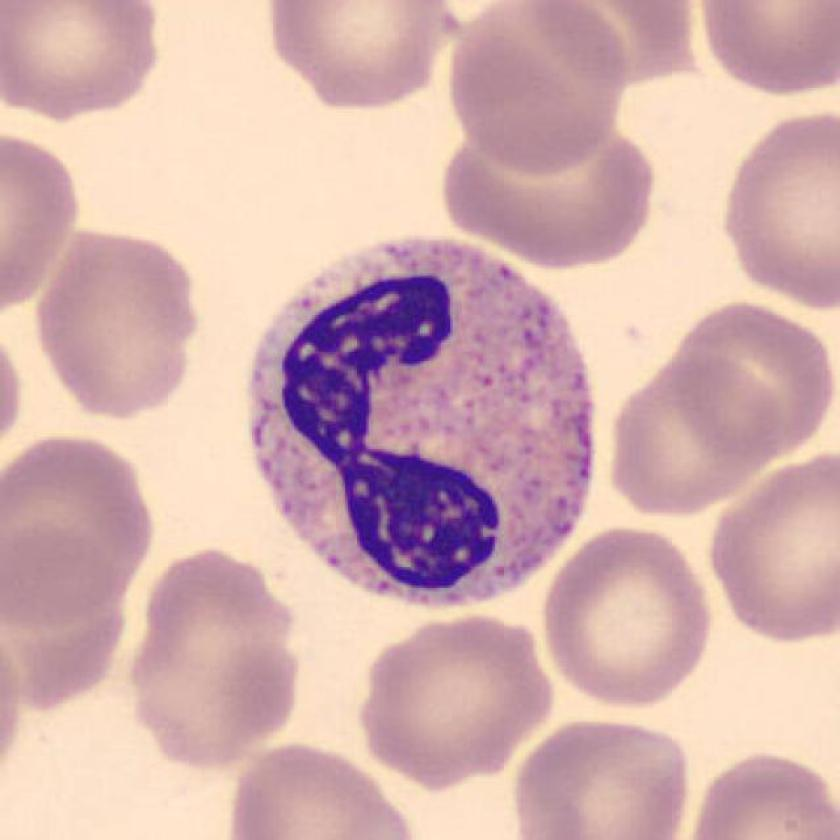neutrophil: (253, 241, 596, 606)
